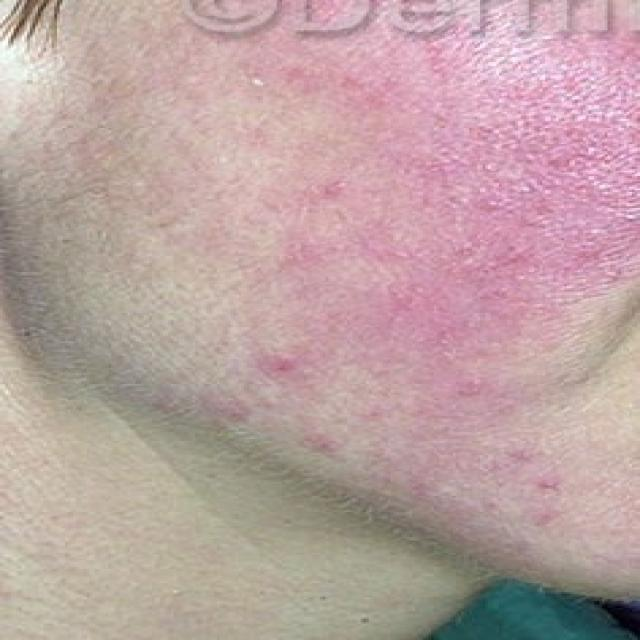Rosacea: (407, 34, 640, 359)
